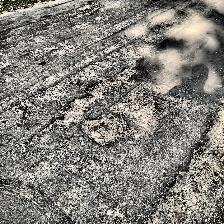pothole: (146, 109, 224, 223), (50, 80, 110, 128), (80, 112, 126, 146), (78, 5, 102, 15)
